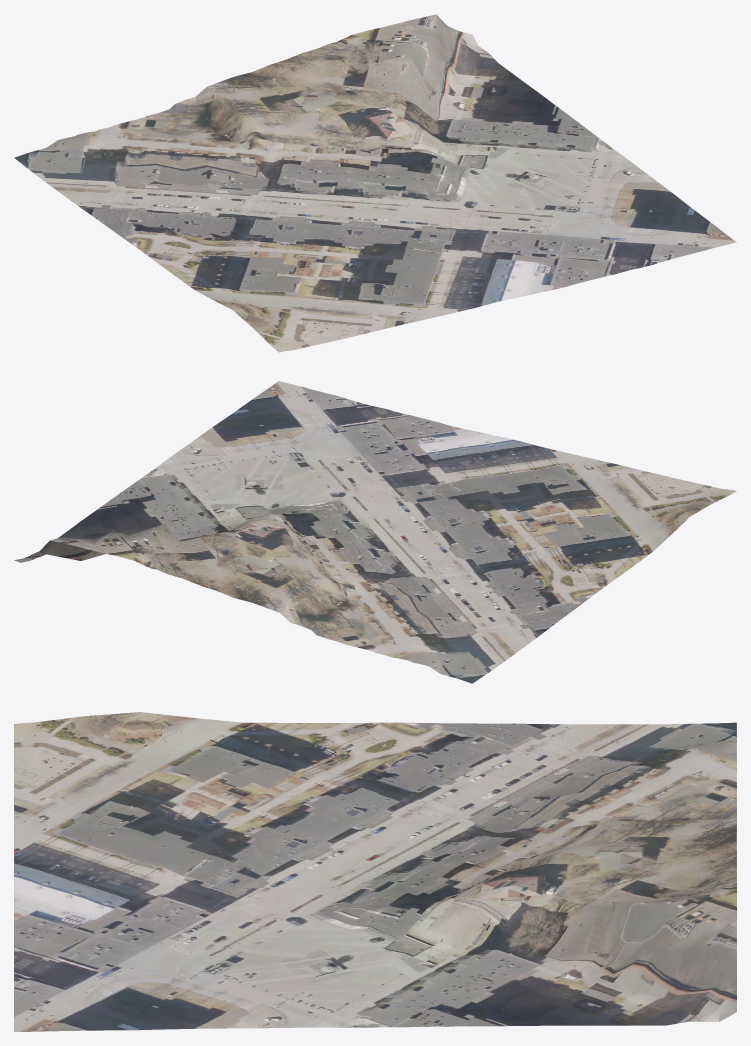
File: CM_Terrain_24487182_6821636.fbx
3 views of the same model, one above another, from view 1: azimuth 30°, elevation 25°; view 2: azimuth 150°, elevation 25°; view 3: azimuth 270°, elevation 25° (orthographic). The views are drawn at different scales.
Visible parts, largest first — view 1: CM_Terrain_24487182_6821636_LOD0; view 2: CM_Terrain_24487182_6821636_LOD0; view 3: CM_Terrain_24487182_6821636_LOD0.
Part boxes in pixels (x1,y1,x2,y2): CM_Terrain_24487182_6821636_LOD0: (14, 14, 736, 352); CM_Terrain_24487182_6821636_LOD0: (14, 381, 736, 683); CM_Terrain_24487182_6821636_LOD0: (14, 712, 736, 1031).
Size of what is drawn, in the model's own units: 205 by 19.86 by 205.
